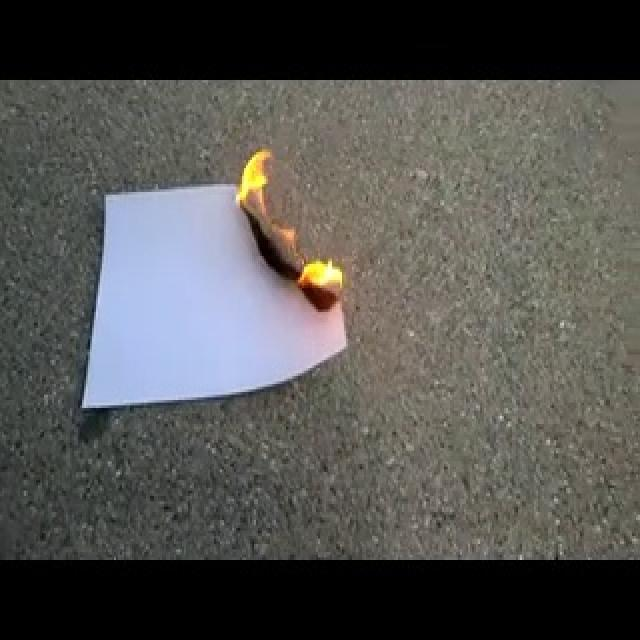fire: (223, 144, 355, 315)
